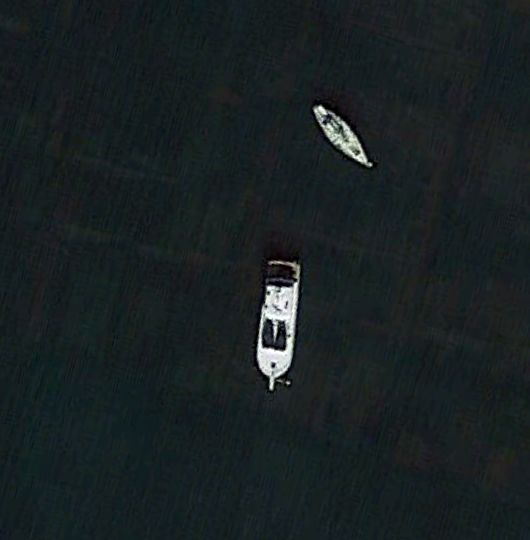boat: (256, 256, 301, 394), (310, 103, 373, 169)
